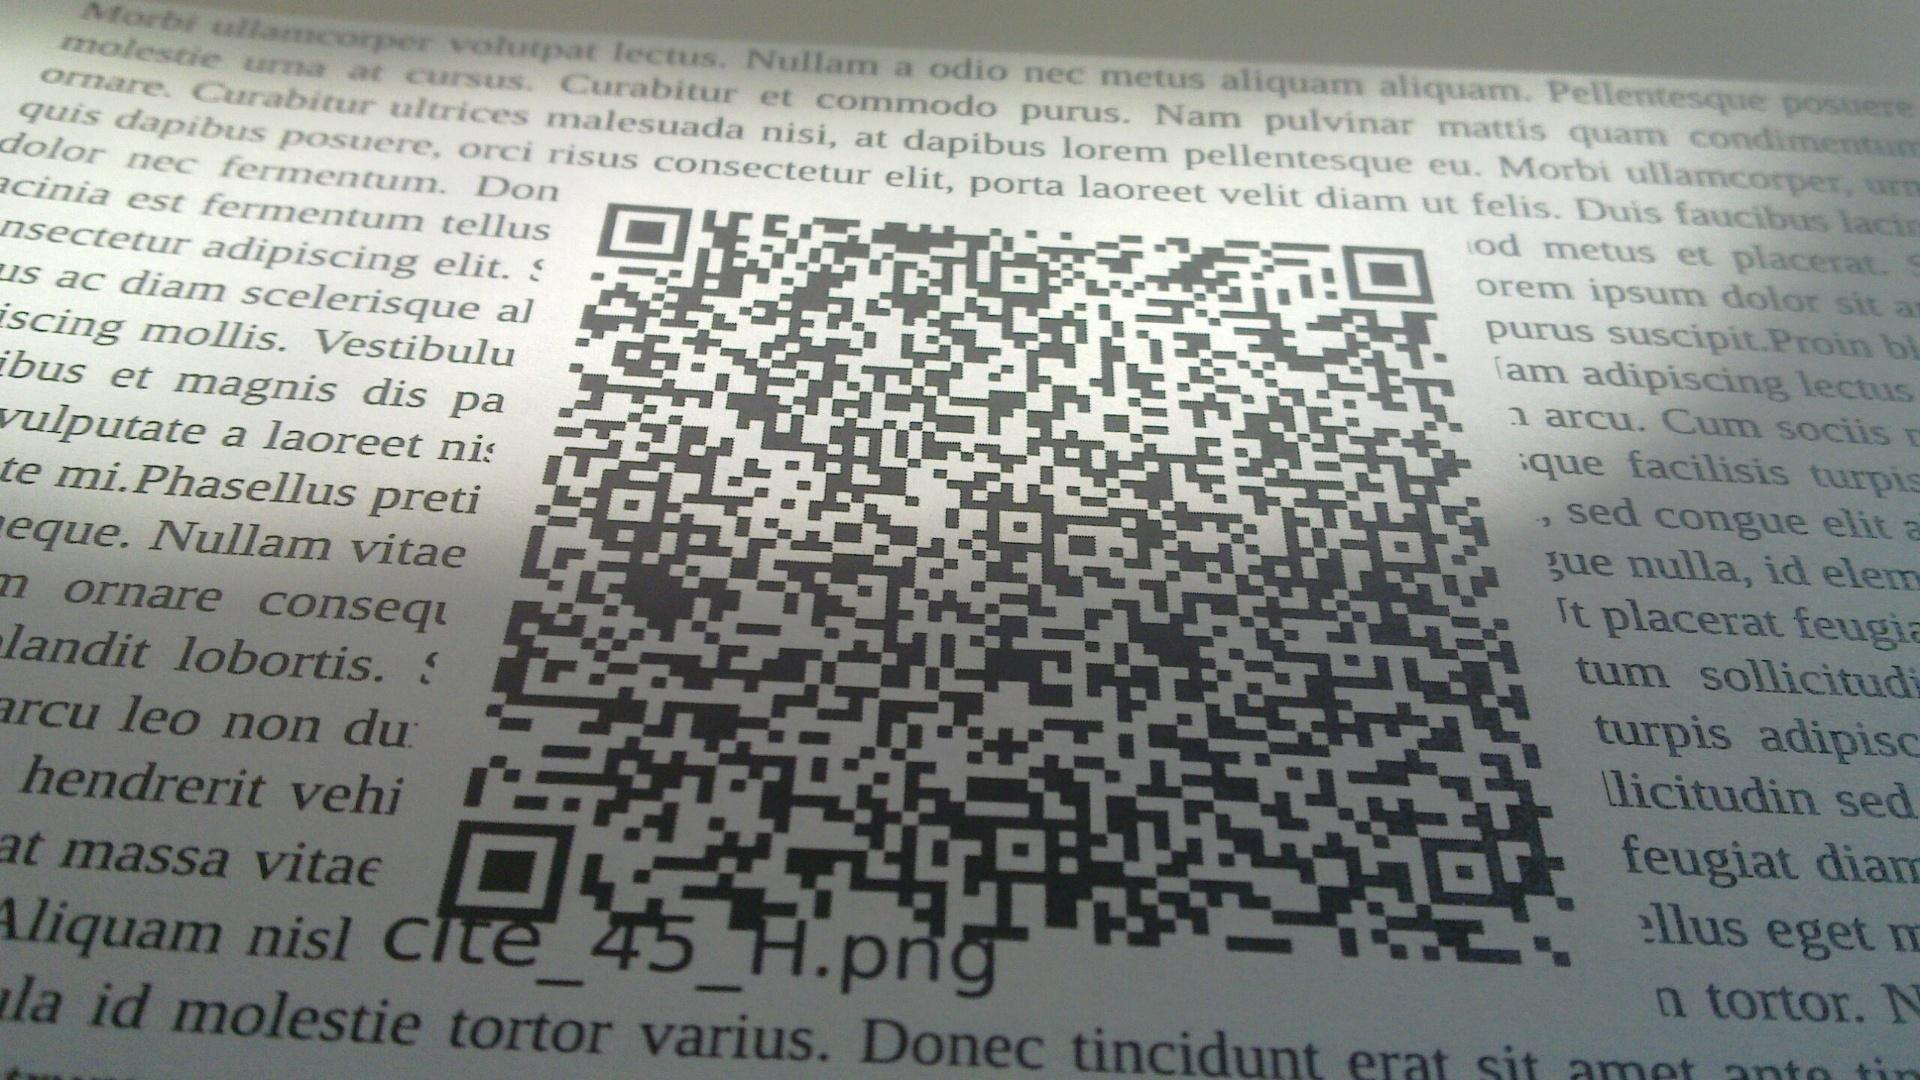Finder pattern: (436, 815, 578, 922), (1337, 237, 1441, 310), (595, 196, 695, 264)
